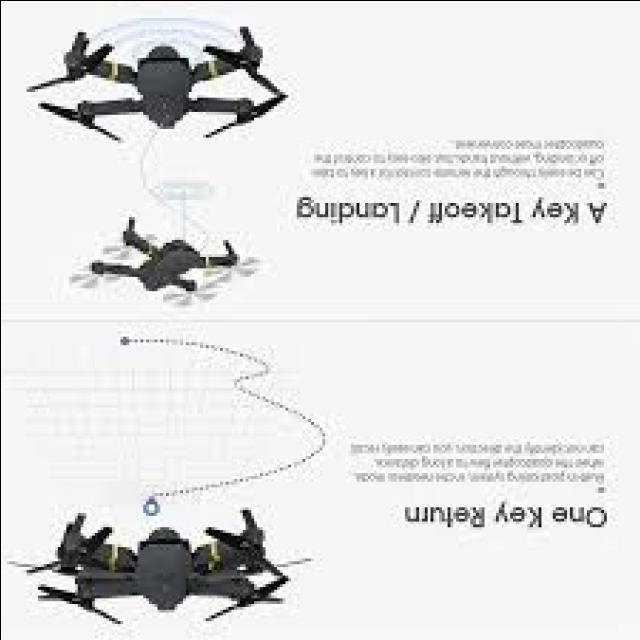drone: (12, 490, 326, 634), (28, 10, 286, 152), (68, 199, 262, 317)
